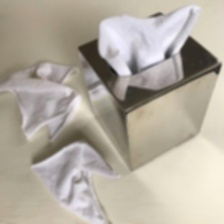tissue: (91, 0, 210, 81), (25, 134, 127, 223), (0, 52, 87, 148)
